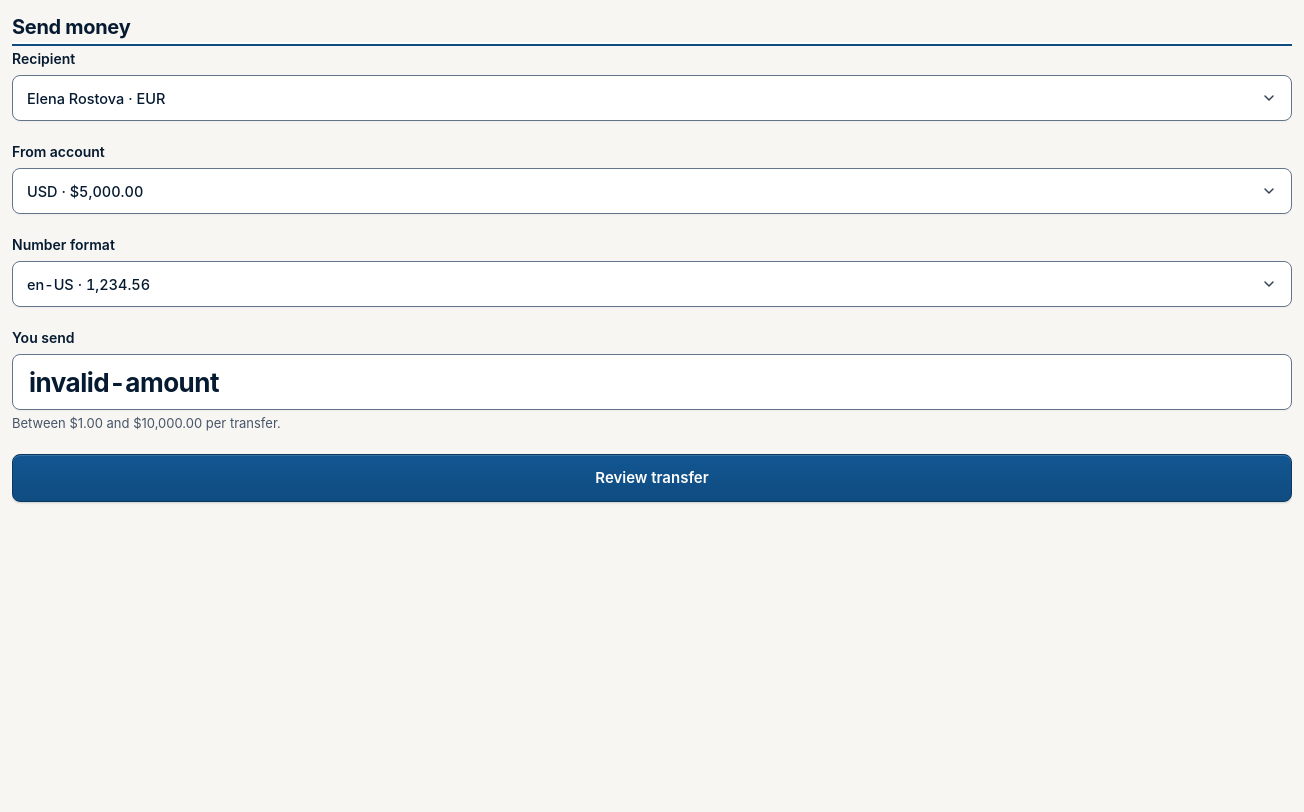
Test case: SendForm (FORM-01..FORM-06) › FORM-02: invalid amount blocks review, does not fetch quote, and shows amount error in summary and field
What coordinates should you click on to do the following:
click the button "Review transfer"
I would click on:
 (652, 478)
Its box is [12,454,1292,502].
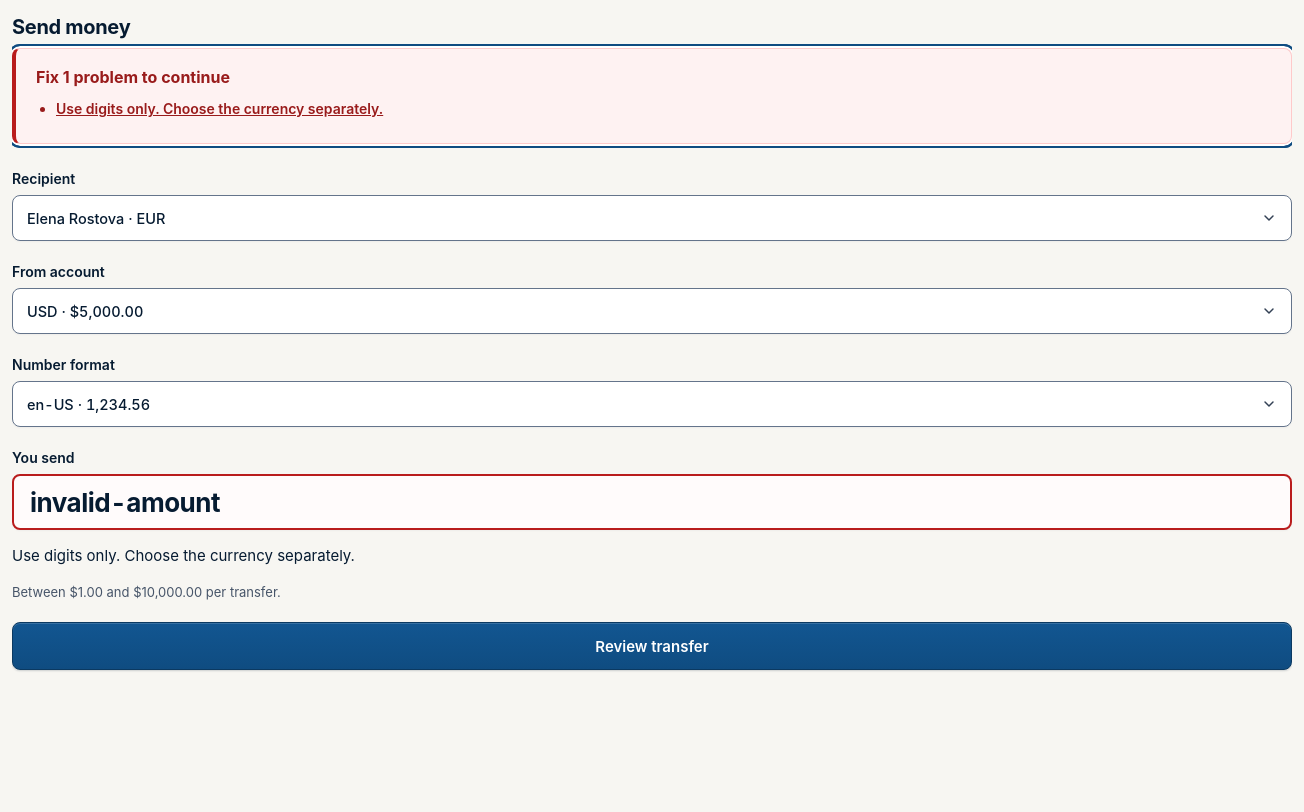
Expected: the message "Fix 1 problem to continue Use digits only. Choose the currency separately." is shown, [12,48,1292,144]
Expected: the message shows "Fix 1 problem to continue", [36,67,230,87]
